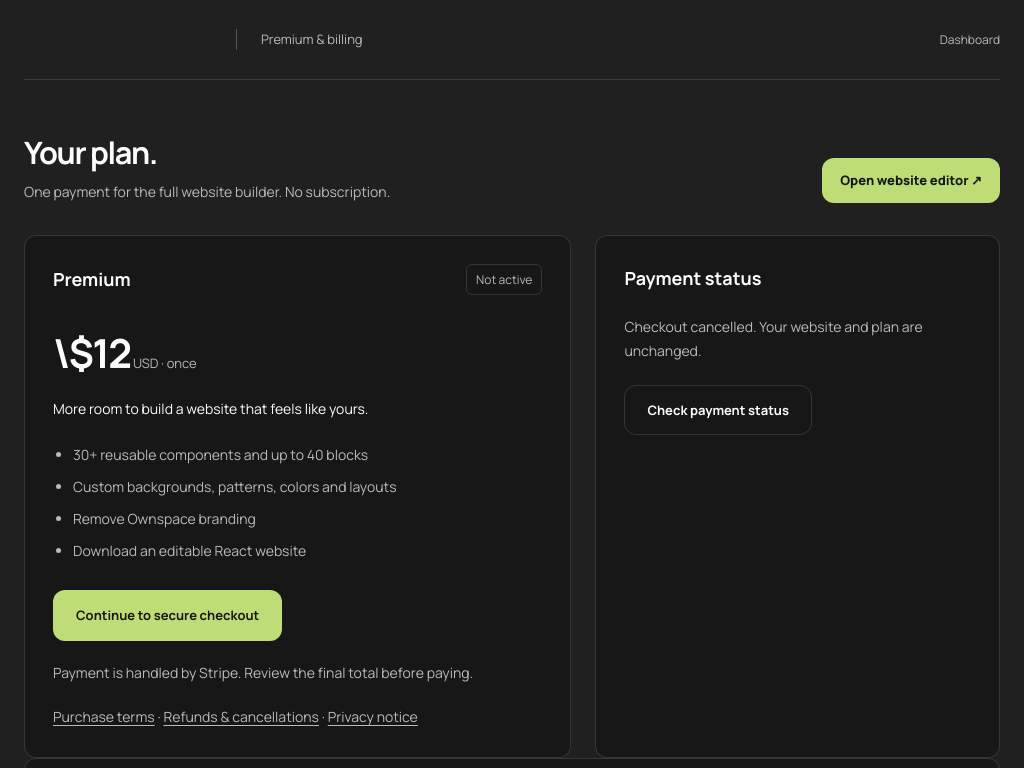
Scenario: preserves cancellation feedback and surfaces checkout configuration errors
The image size is (1024, 768).
Expected: the text "Checkout cancelled. Your website and plan are unchanged." is shown, [624,315,971,363]
What coordinates should you click on to do the following:
click the button "Continue to secure checkout"
I would click on:
 (168, 616)
Its box is [53,590,282,641].
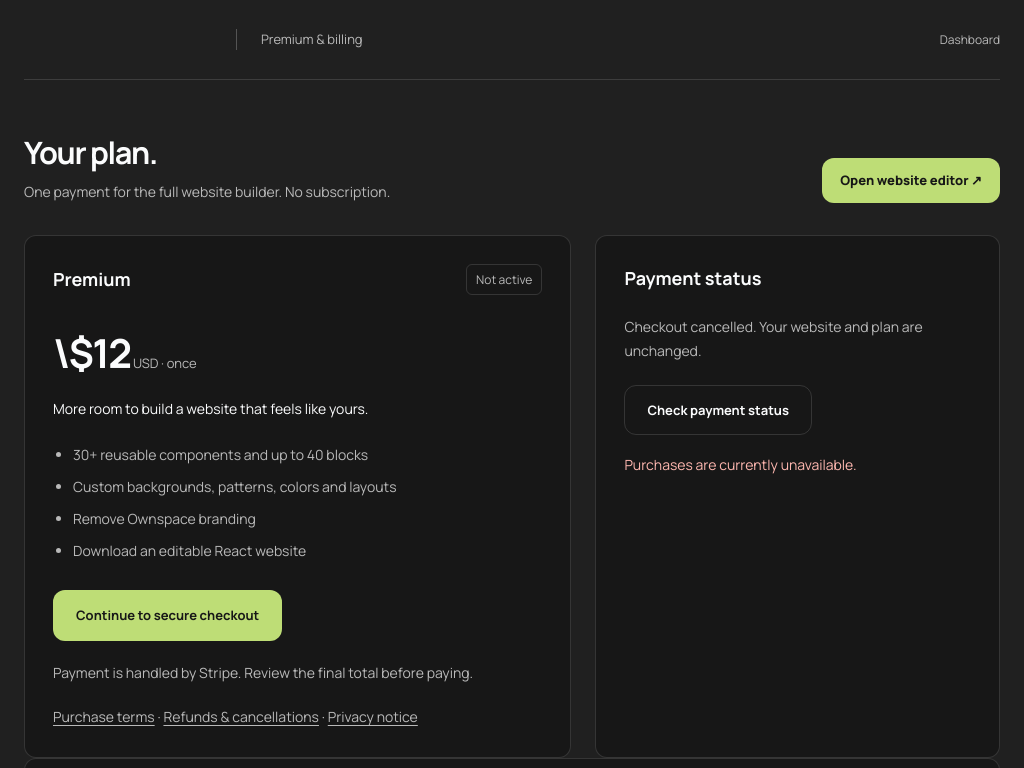
Expected: the message "Purchases are currently unavailable." is shown, [624,455,857,474]
